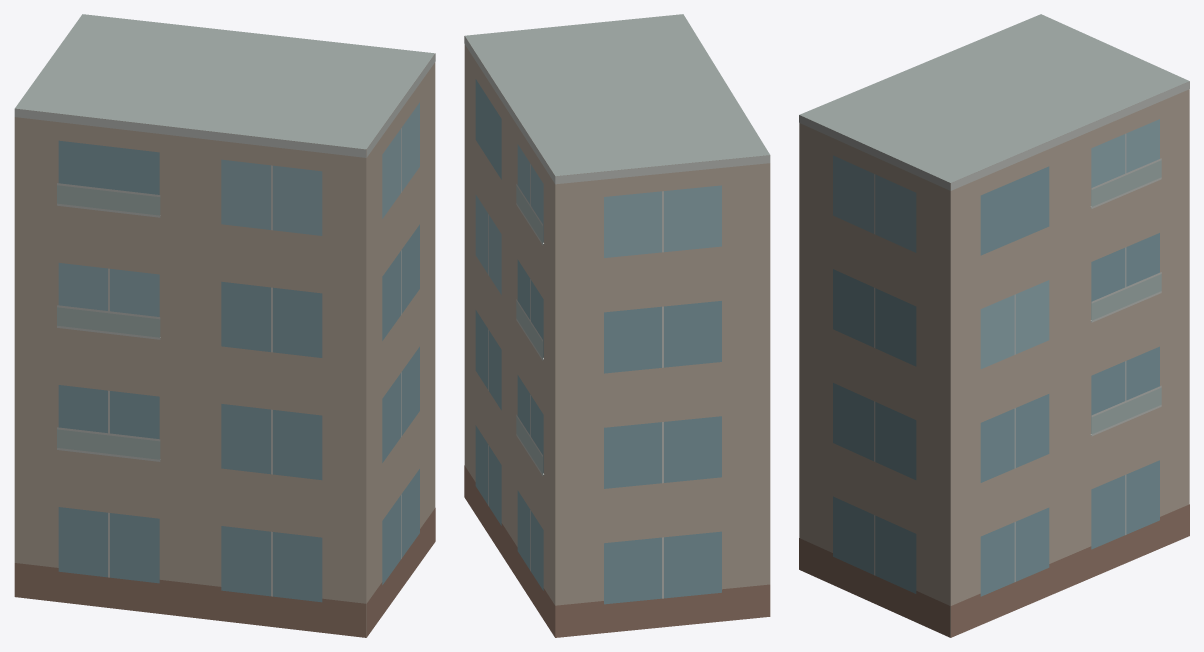
Rendered from survey-upis-32908348.glb.
The picture shows the model from 3 angles, left to right: view 1: azimuth 30°, elevation 25°; view 2: azimuth 150°, elevation 25°; view 3: azimuth 270°, elevation 25°; orthographic projection. The views are drawn at different scales.
Visible parts, largest first — view 1: survey-upis-32908348.tmp; view 2: survey-upis-32908348.tmp; view 3: survey-upis-32908348.tmp.
Part boxes in pixels (x1=…): survey-upis-32908348.tmp: x1=14, y1=14, x2=435, y2=637; survey-upis-32908348.tmp: x1=464, y1=14, x2=770, y2=637; survey-upis-32908348.tmp: x1=799, y1=14, x2=1189, y2=637.
Size of the model in its own units: 11.13 by 13.95 by 10.87.
